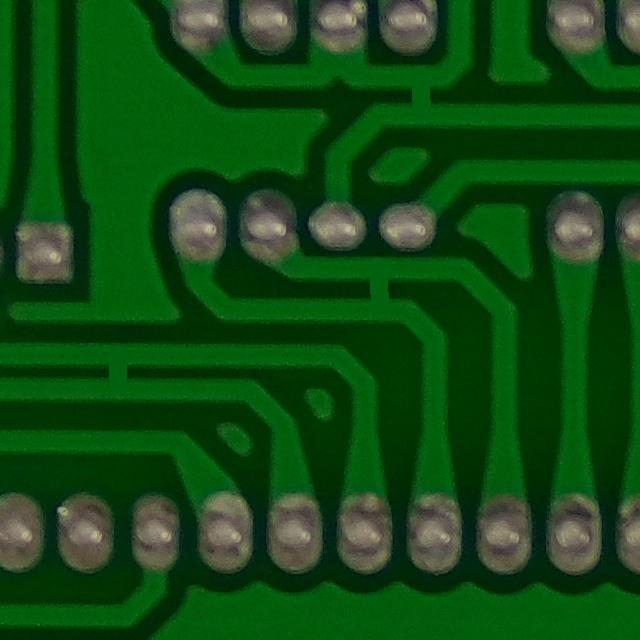short: (323, 246, 430, 327), (369, 44, 459, 136), (82, 341, 154, 410)
